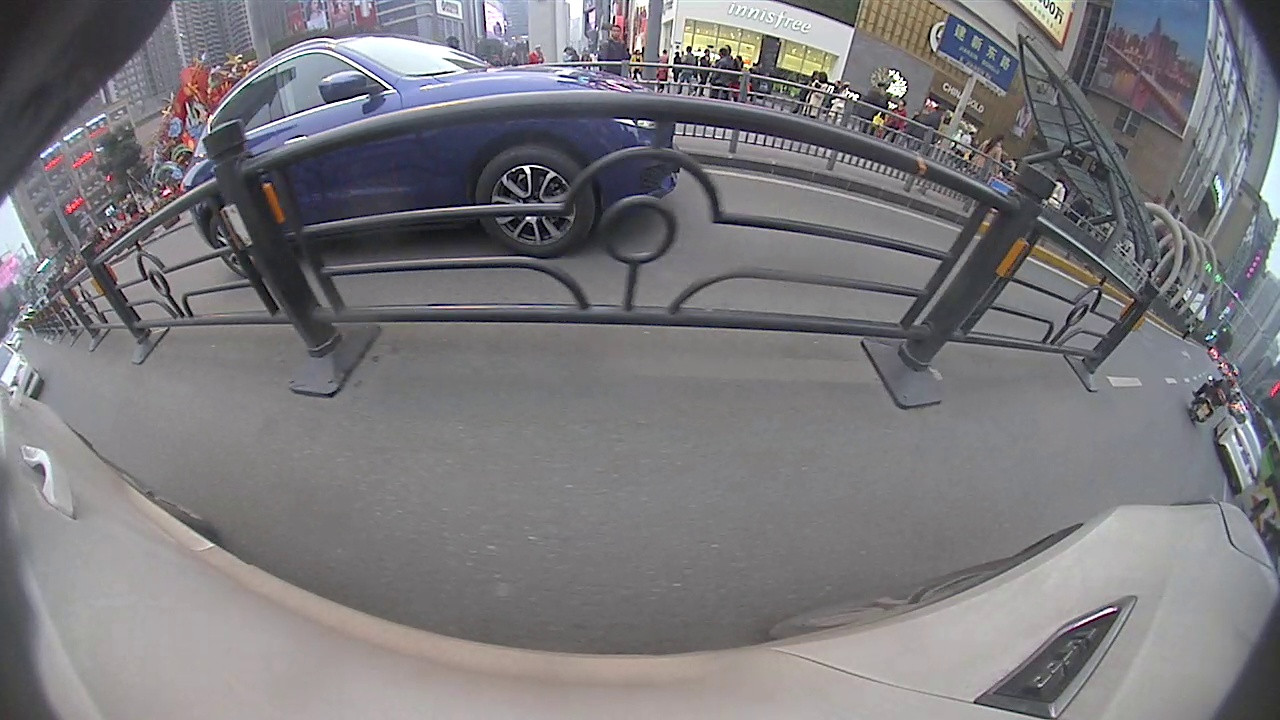car: (179, 35, 682, 279), (1213, 413, 1264, 494)
front: (469, 144, 597, 258)
rear: (208, 210, 252, 281)
rider: (1184, 372, 1238, 429)
